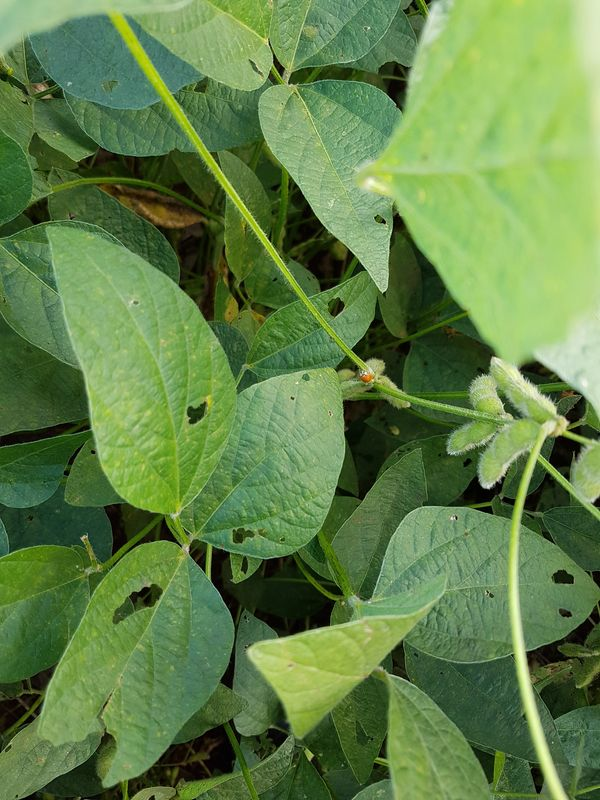Coccinellidae: (352, 364, 380, 389)
